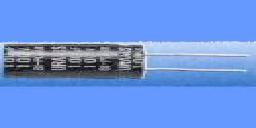Electrolytic Capacitor: (2, 30, 256, 86)
